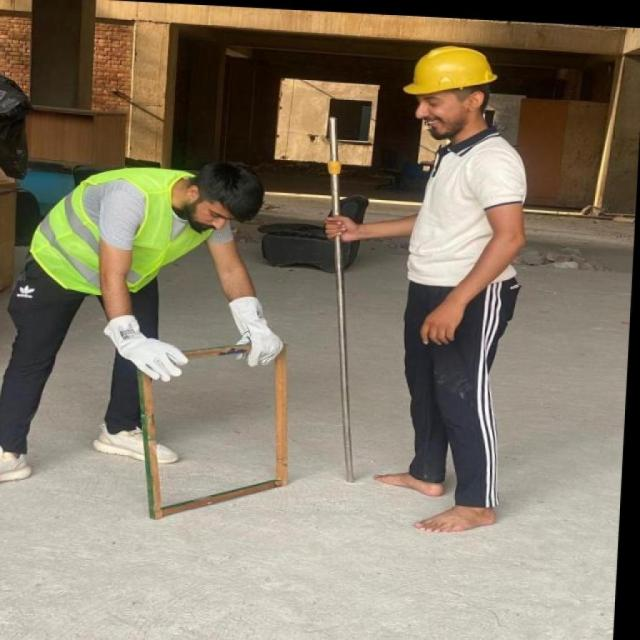Gloves-Detection: (99, 318, 187, 387), (227, 290, 284, 367)
